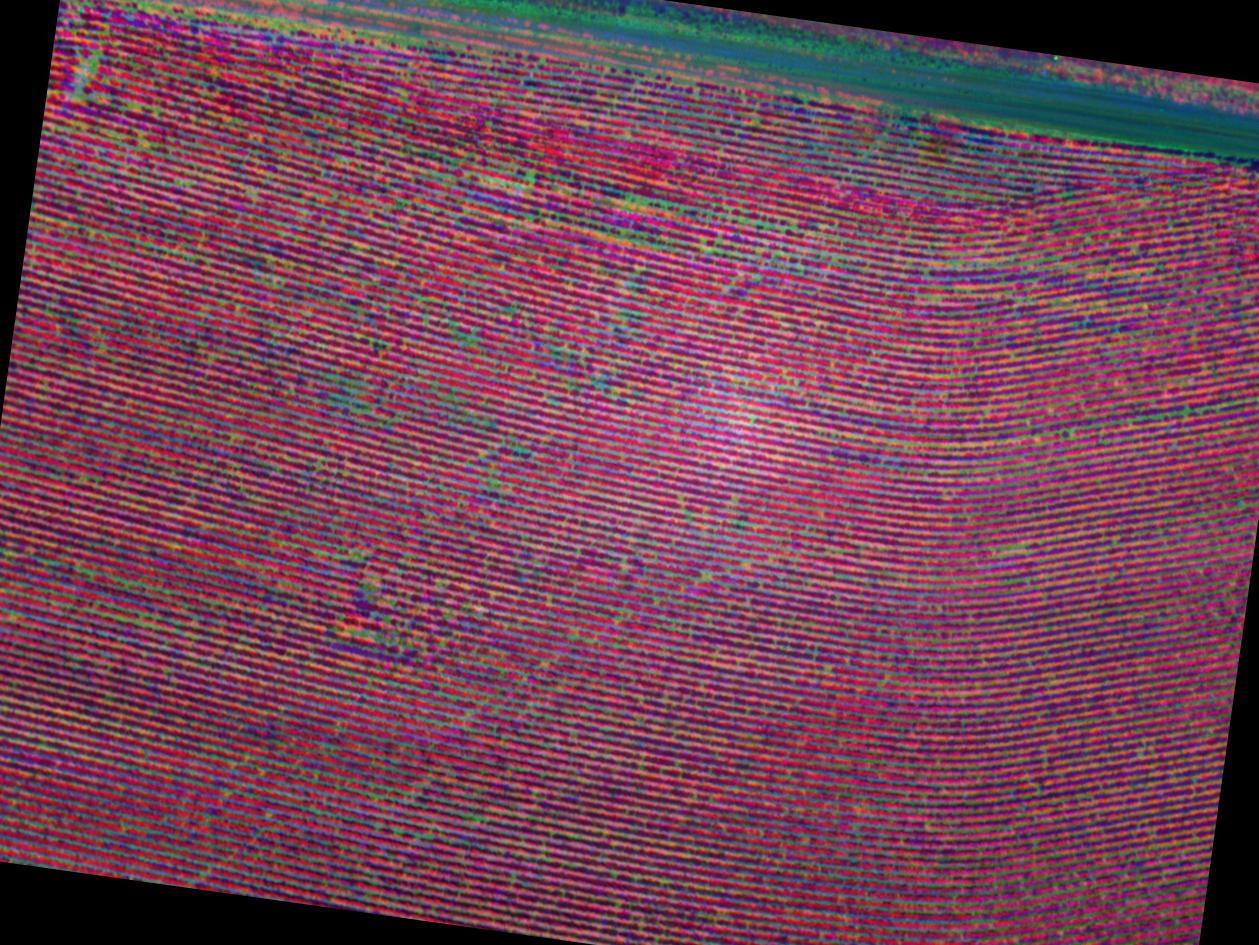dc: (431, 142, 566, 234), (320, 543, 430, 651), (49, 24, 150, 131), (323, 351, 431, 450), (622, 185, 750, 252)
